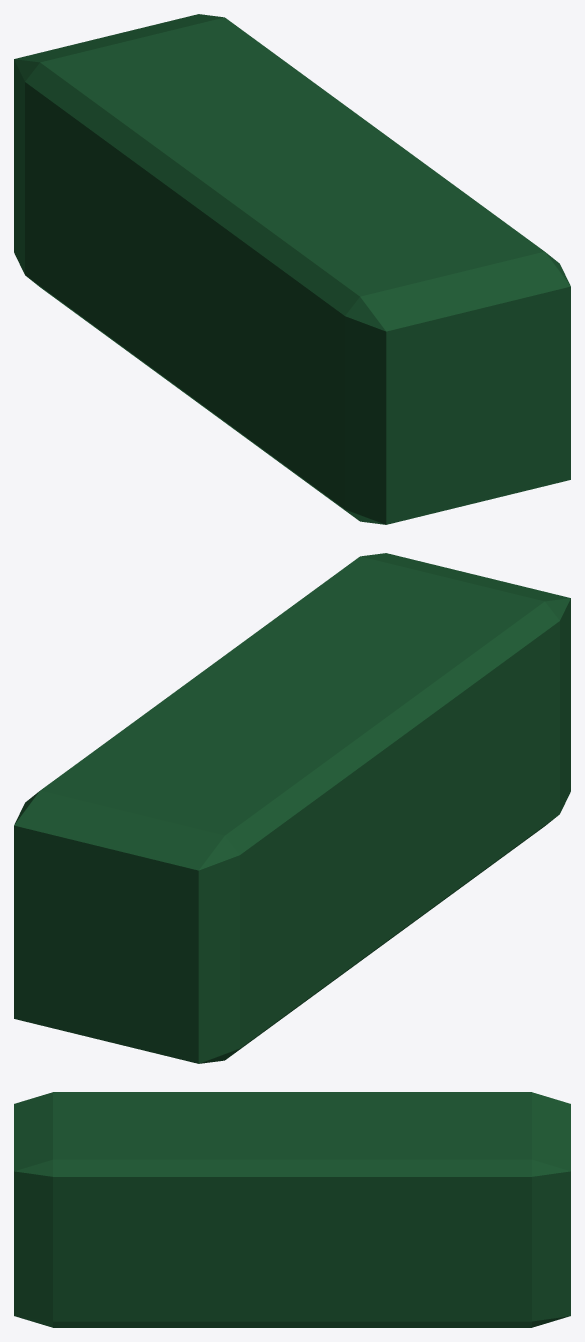
File: Cuboid.fbx
The picture shows the model from 3 angles, top to bottom: view 1: azimuth 30°, elevation 25°; view 2: azimuth 150°, elevation 25°; view 3: azimuth 270°, elevation 25°; orthographic projection. The views are drawn at different scales.
Visible parts, largest first — view 1: Cuboid; view 2: Cuboid; view 3: Cuboid.
Part boxes in pixels (left/top/right/bottom): Cuboid: left=14, top=14, right=570, bottom=524; Cuboid: left=14, top=553, right=570, bottom=1063; Cuboid: left=14, top=1092, right=570, bottom=1327.
Size of the model in its own units: 100 by 100 by 300.
